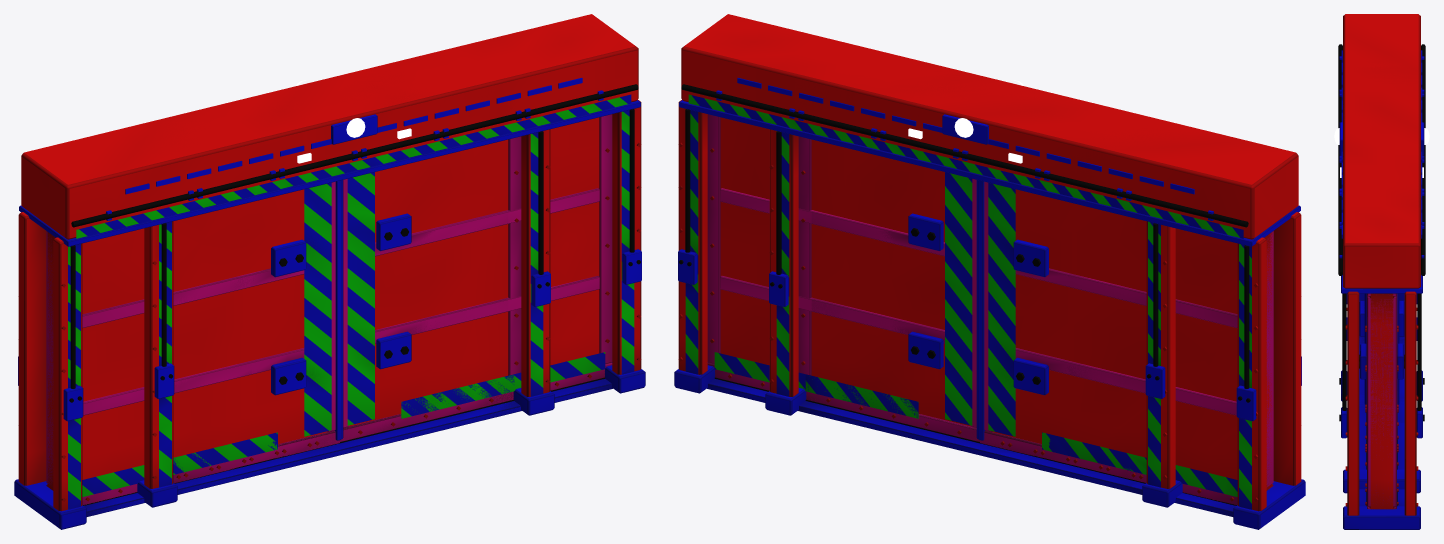
Rendered from puertas_blast.glb.
The picture shows the model from 3 angles, left to right: view 1: azimuth 30°, elevation 25°; view 2: azimuth 150°, elevation 25°; view 3: azimuth 270°, elevation 25°; orthographic projection. The views are drawn at different scales.
Visible parts, largest first — view 1: pd_blast6__marco, pd_blast4__marco, pd_blast4__hojaR, pd_blast4__hojaL, pd_blast6__hojaL, pd_blast6__hojaR; view 2: pd_blast6__marco, pd_blast4__marco, pd_blast4__hojaR, pd_blast4__hojaL, pd_blast6__hojaL, pd_blast6__hojaR; view 3: pd_blast6__marco, pd_blast4__marco, pd_blast6__hojaR, pd_blast4__hojaR, pd_blast4__hojaL, pd_blast4__luz, pd_blast6__hojaL.
Part boxes in pixels (x1=…): pd_blast6__marco: x1=14, y1=14, x2=645, y2=529; pd_blast4__marco: x1=116, y1=36, x2=554, y2=507; pd_blast4__hojaR: x1=340, y1=136, x2=521, y2=441; pd_blast4__hojaL: x1=173, y1=180, x2=341, y2=483; pd_blast6__hojaL: x1=46, y1=183, x2=339, y2=505; pd_blast6__hojaR: x1=340, y1=114, x2=612, y2=441; pd_blast6__marco: x1=674, y1=14, x2=1305, y2=529; pd_blast4__marco: x1=765, y1=36, x2=1203, y2=507; pd_blast4__hojaR: x1=798, y1=136, x2=979, y2=441; pd_blast4__hojaL: x1=978, y1=180, x2=1146, y2=479; pd_blast6__hojaL: x1=980, y1=182, x2=1273, y2=505; pd_blast6__hojaR: x1=707, y1=114, x2=978, y2=440; pd_blast6__marco: x1=1338, y1=14, x2=1425, y2=529; pd_blast4__marco: x1=1338, y1=50, x2=1425, y2=493; pd_blast6__hojaR: x1=1360, y1=293, x2=1403, y2=509; pd_blast4__hojaR: x1=1359, y1=293, x2=1404, y2=465; pd_blast4__hojaL: x1=1359, y1=294, x2=1404, y2=404; pd_blast4__luz: x1=1334, y1=128, x2=1429, y2=177; pd_blast6__hojaL: x1=1359, y1=303, x2=1404, y2=336.
Size of the model in its own units: 6.44 by 3.6 by 1.1.
